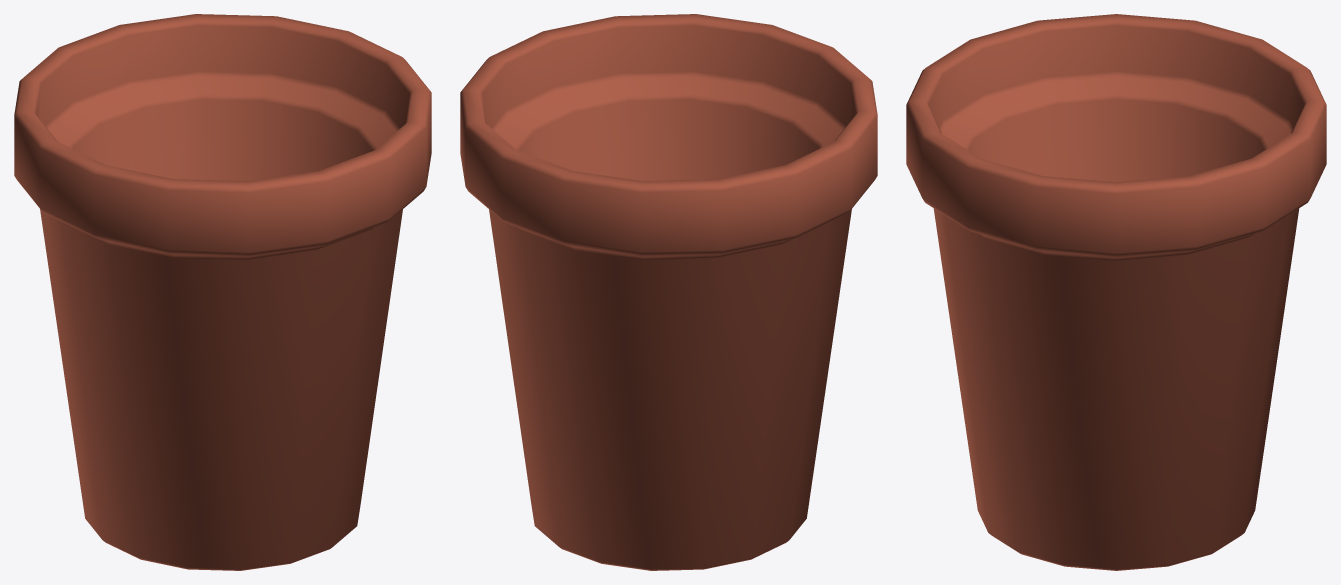
The model's file is pot de plante 1.fbx.
3 views of the same model, side by side, from view 1: azimuth 30°, elevation 25°; view 2: azimuth 150°, elevation 25°; view 3: azimuth 270°, elevation 25° (orthographic).
Visible parts, largest first — view 1: pot de plante; view 2: pot de plante; view 3: pot de plante.
Boxes of the visible parts, x1,y1,x2,y2 form: pot de plante: (14,14,431,570); pot de plante: (460,14,877,570); pot de plante: (906,14,1326,570).
Size of the model in its own units: 60 by 65 by 60.
